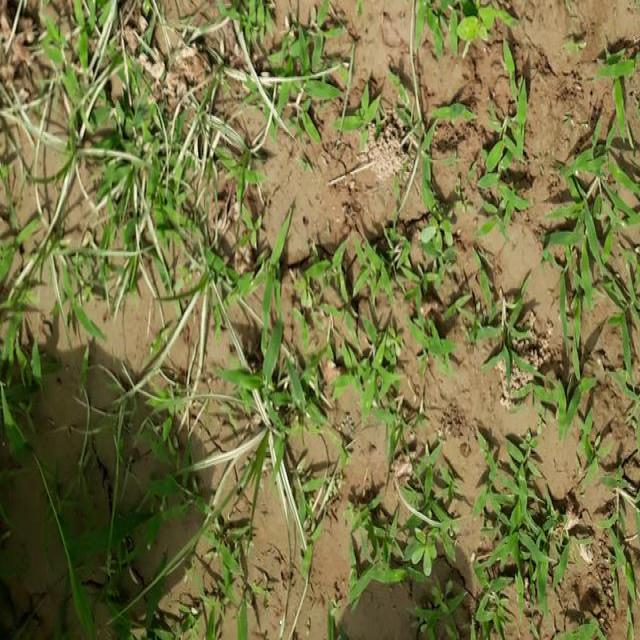weed: (23, 3, 349, 288), (223, 222, 445, 407), (536, 38, 640, 421), (378, 428, 575, 627)
